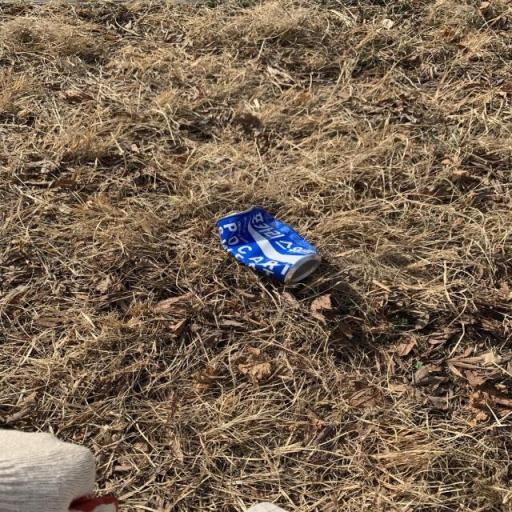metal: (205, 196, 321, 292)
